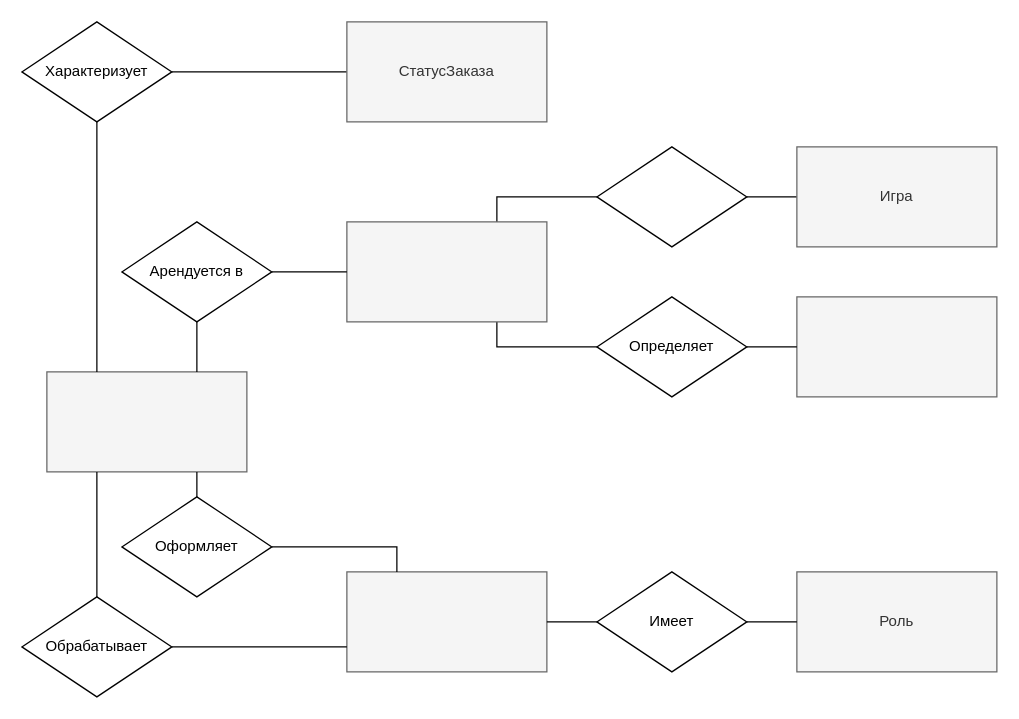
The diagram is 1019 pixels wide and 719 high, and some of its shapes have lost their labels. The shapes that lost their labels are listed below. From the top down, each one's centre as x and y in pixels, then its label:
At pixel 671 196: "Содержит".
At pixel 446 271: "Аккаунт".
At pixel 896 346: "СтатусАккаунта".
At pixel 146 421: "Заказ".
At pixel 446 621: "Пользователь".
